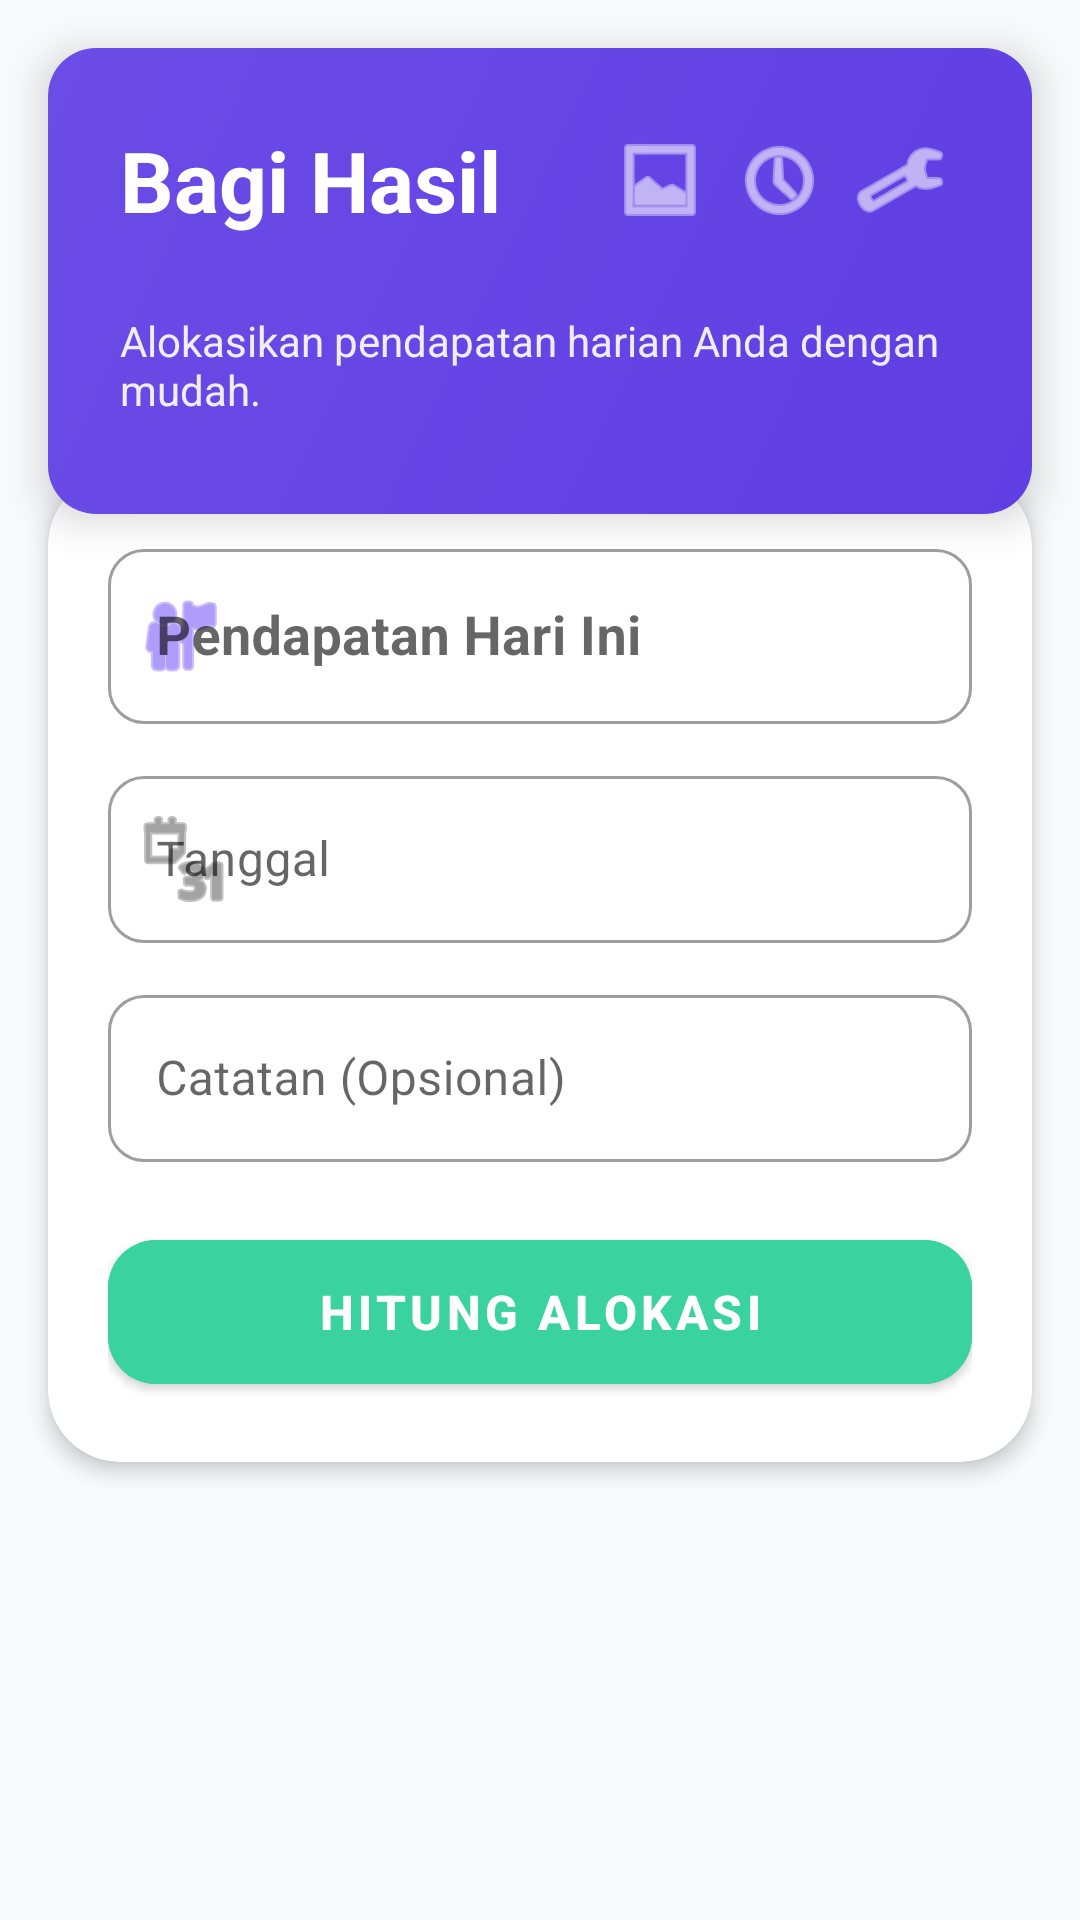

Point at icon controls on the screen. Image size 1080*1920, points as [x,y].
History: [779,180]
Settings: [900,180]
